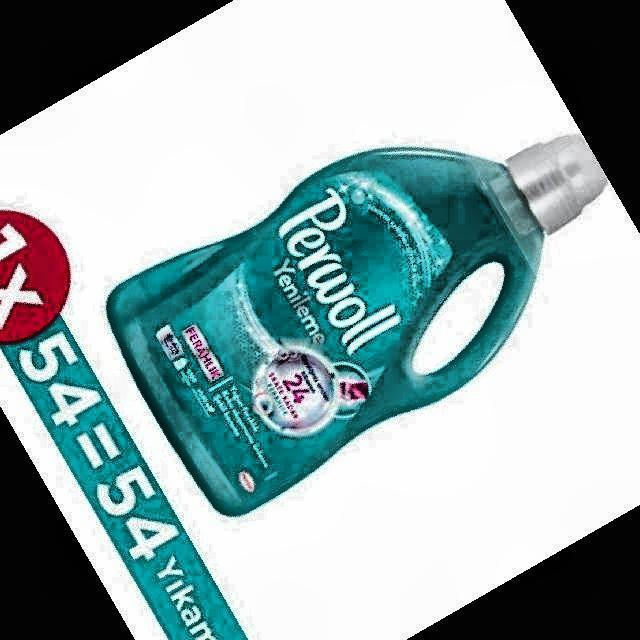plastic: (107, 135, 606, 515)
